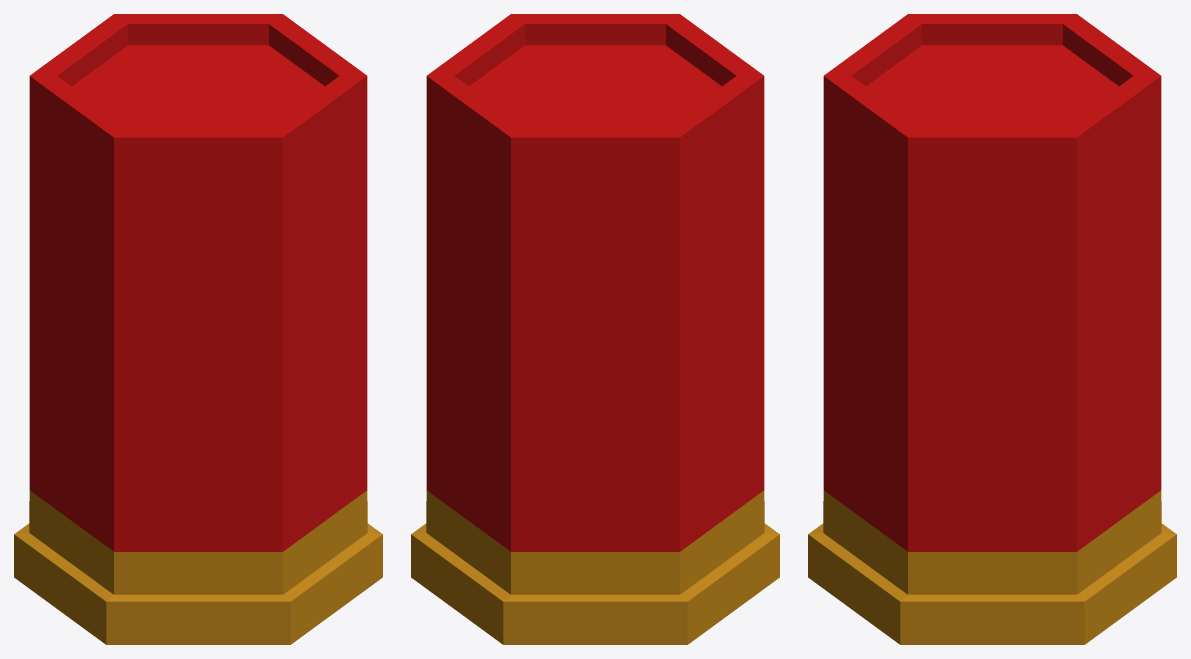
Rendered from shotgunCase.fbx.
3 views of the same model, side by side, from view 1: azimuth 30°, elevation 25°; view 2: azimuth 150°, elevation 25°; view 3: azimuth 270°, elevation 25° (orthographic).
Parts seen in each view (by area): view 1: shotgunCasing; view 2: shotgunCasing; view 3: shotgunCasing.
Part boxes in pixels (x1,y1,x2,y2): shotgunCasing: (14, 14, 382, 644); shotgunCasing: (411, 14, 779, 644); shotgunCasing: (808, 14, 1176, 644).
Bounding box in the file's own units: 73.6 × 128 × 84.99.
